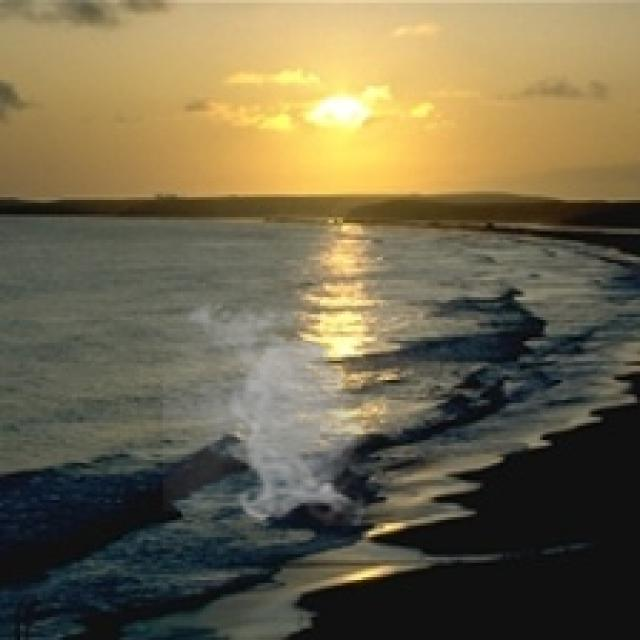smoke: (163, 294, 377, 526)
